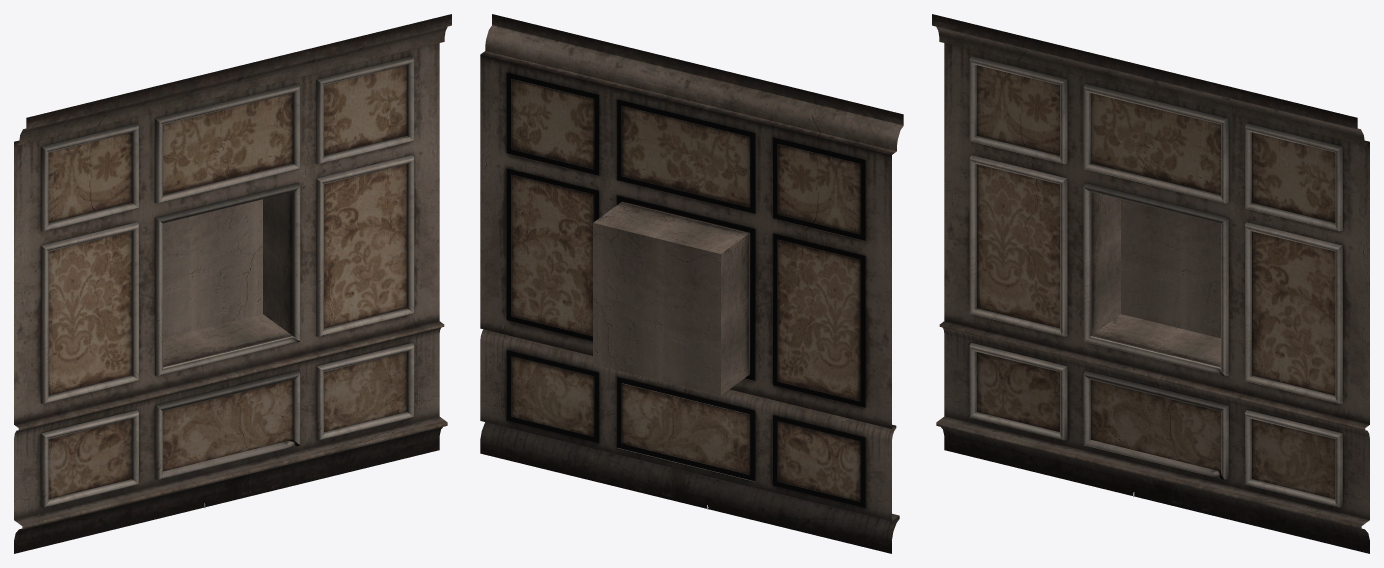
Rendered from 42_default_secret.dae.
3 views of the same model, side by side, from view 1: azimuth 30°, elevation 25°; view 2: azimuth 150°, elevation 25°; view 3: azimuth 330°, elevation 25° (orthographic). The views are drawn at different scales.
Parts seen in each view (by area): view 1: mansionbase_default; view 2: mansionbase_default; view 3: mansionbase_default.
Part boxes in pixels (x1,y1,x2,y2): mansionbase_default: (14,14,451,553); mansionbase_default: (480,14,903,553); mansionbase_default: (932,14,1369,553).
Size of the model in its own units: 4 by 4 by 0.69.
